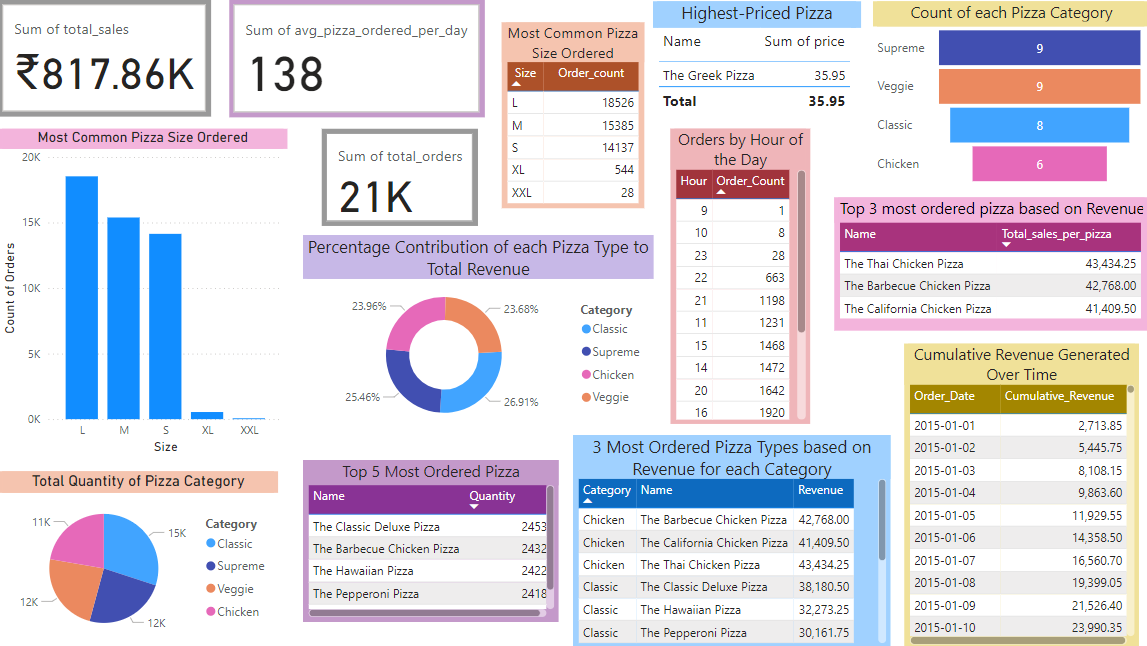

What the dashboard file says about the page in this screenshot:
{"tool":"powerbi","page":{"name":"Page 1","canvas":[1280,720],"ordinal":0},"visuals":[{"type":"cardVisual","fields":{"Data":["Sum(Query1.total_orders)"]},"box":[360,143.3,173.3,108.3],"z":0},{"type":"cardVisual","fields":{"Data":["Sum(Query3.total_sales)"]},"box":[0,0,237.7,129],"z":1000},{"type":"tableEx","title":"Highest-Priced Pizza","fields":{"Values":["pizzahut pizza_types.name","Sum(pizzahut pizzas.price)"]},"box":[727.9,1.5,230.9,129.4],"z":2000},{"type":"tableEx","title":"Most Common Pizza Size Ordered","fields":{"Values":["Query5.size","Query5.order_count"]},"box":[560,25,158.3,206.7],"z":3000},{"type":"clusteredColumnChart","title":"Most Common Pizza Size Ordered","fields":{"Category":["pizzahut pizzas.size"],"Y":["CountNonNull(pizzahut order_details.order_details_id)"]},"box":[0,143.3,321.7,366.7],"z":4000},{"type":"tableEx","title":"Top 5 Most Ordered Pizza","fields":{"Values":["pizzahut pizza_types.name","Sum(pizzahut order_details.quantity)"]},"box":[339.1,510.9,284.4,179.7],"z":5000},{"type":"pieChart","title":"Total Quantity of Pizza Category","fields":{"Category":["pizzahut pizza_types.category"],"Y":["Sum(pizzahut order_details.quantity)"]},"box":[0,523.2,311.6,197.1],"z":6000},{"type":"tableEx","title":"Orders by Hour of the Day","fields":{"Values":["Query6.HOUR(order_time)","Query6.order_count"]},"box":[746.7,143.3,155,328.3],"z":7000},{"type":"funnel","title":"Count of each Pizza Category","fields":{"Category":["Query7.category"],"Y":["Sum(Query7.COUNT(name))"]},"box":[972.1,1.5,307.4,208.8],"z":8000},{"type":"cardVisual","fields":{"Data":["Sum(Query9.avg_pizza_ordered_per_day)"]},"box":[256.2,0,283.8,130],"z":9000},{"type":"tableEx","title":"Top 3 most ordered pizza based on Revenue","fields":{"Values":["Query10.name","Sum(Query10.total_sales_per_pizza)"]},"box":[929,218.8,350.7,147.8],"z":10000},{"type":"donutChart","title":"Percentage Contribution of each Pizza Type to Total Revenue","fields":{"Category":["Query11.category"],"Y":["Sum(Query11.revenue)"]},"box":[338.5,261.5,389.4,222.1],"z":11000},{"type":"tableEx","title":"Cumulative Revenue Generated Over Time","fields":{"Values":["Query12.order_date","Query12.cum_revenue"]},"box":[1006.2,381.2,260.9,339.1],"z":12000},{"type":"tableEx","title":"3 Most Ordered Pizza Types based on Revenue for each Category","fields":{"Values":["Query13.category","Query13.name","Query13.revenue"]},"box":[639.1,482.8,353.1,235.9],"z":12001}]}

Visuals, with their boxes in screenshot pixels (x1, y1, x2, y2), scaled from the page's 1280x720 canvas onto the 1147x646 screenshot:
cardVisual - Sum(Query1.total_orders): (left=323, top=129, right=478, bottom=226)
cardVisual - Sum(Query3.total_sales): (left=0, top=0, right=213, bottom=116)
"Highest-Priced Pizza" tableEx: (left=652, top=1, right=859, bottom=117)
"Most Common Pizza Size Ordered" tableEx: (left=502, top=22, right=644, bottom=208)
"Most Common Pizza Size Ordered" clusteredColumnChart: (left=0, top=129, right=288, bottom=458)
"Top 5 Most Ordered Pizza" tableEx: (left=304, top=458, right=559, bottom=620)
"Total Quantity of Pizza Category" pieChart: (left=0, top=469, right=279, bottom=645)
"Orders by Hour of the Day" tableEx: (left=669, top=129, right=808, bottom=423)
"Count of each Pizza Category" funnel: (left=871, top=1, right=1146, bottom=189)
cardVisual - Sum(Query9.avg_pizza_ordered_per_day): (left=230, top=0, right=484, bottom=117)
"Top 3 most ordered pizza based on Revenue" tableEx: (left=832, top=196, right=1146, bottom=329)
"Percentage Contribution of each Pizza Type to Total Revenue" donutChart: (left=303, top=235, right=652, bottom=434)
"Cumulative Revenue Generated Over Time" tableEx: (left=902, top=342, right=1135, bottom=645)
"3 Most Ordered Pizza Types based on Revenue for each Category" tableEx: (left=573, top=433, right=889, bottom=645)
